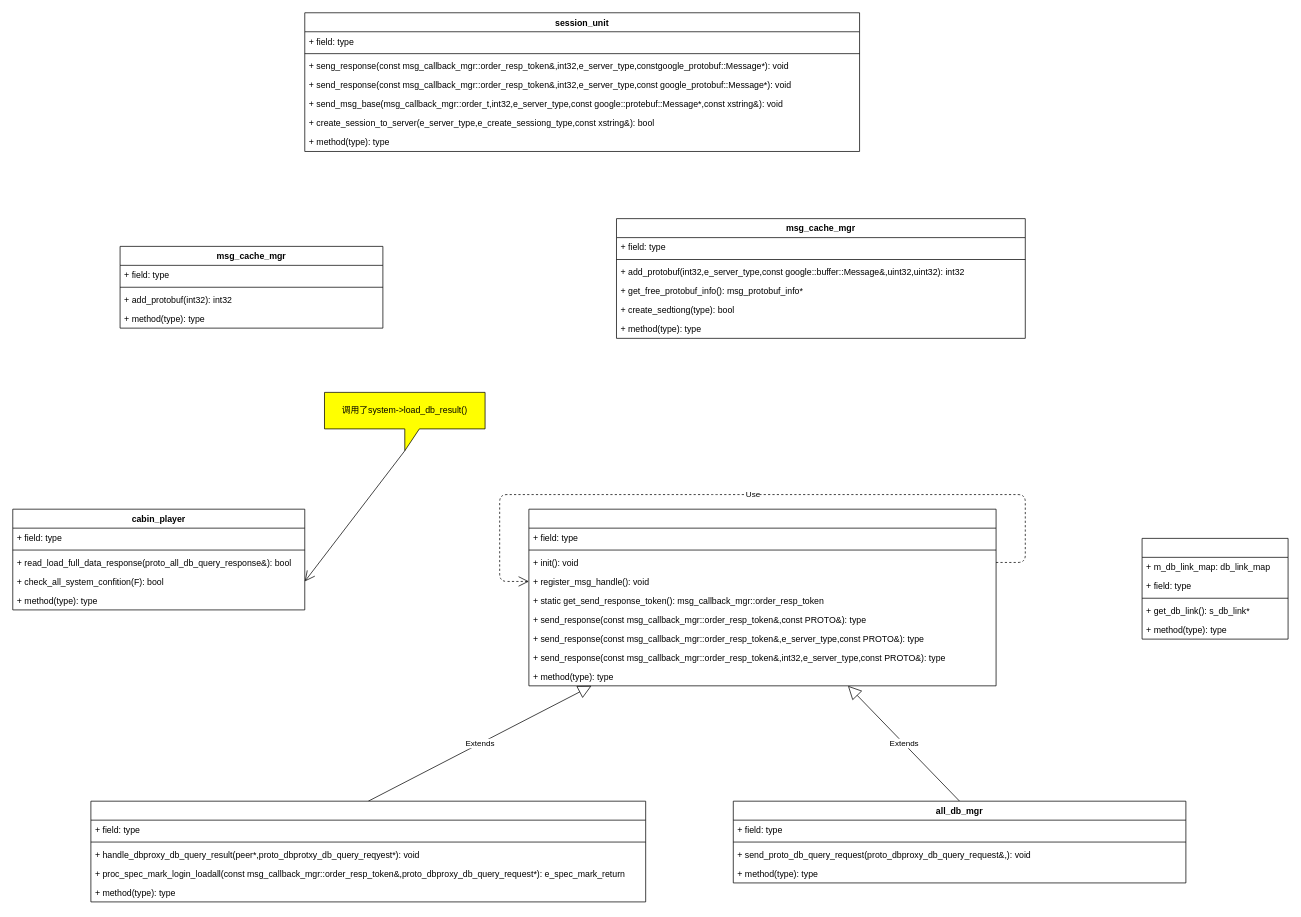
Image size: 1301x917. Some labels were removed from this diagram. The shapes that lost their labels are listed below. From the top down, each one's box as (x1, y1, x2, y2) in pixels, then its label:
(528, 508, 996, 686): game_session_mgr
(1141, 538, 1288, 639): db_manager
(90, 800, 646, 902): dbproxy_db_mgr
